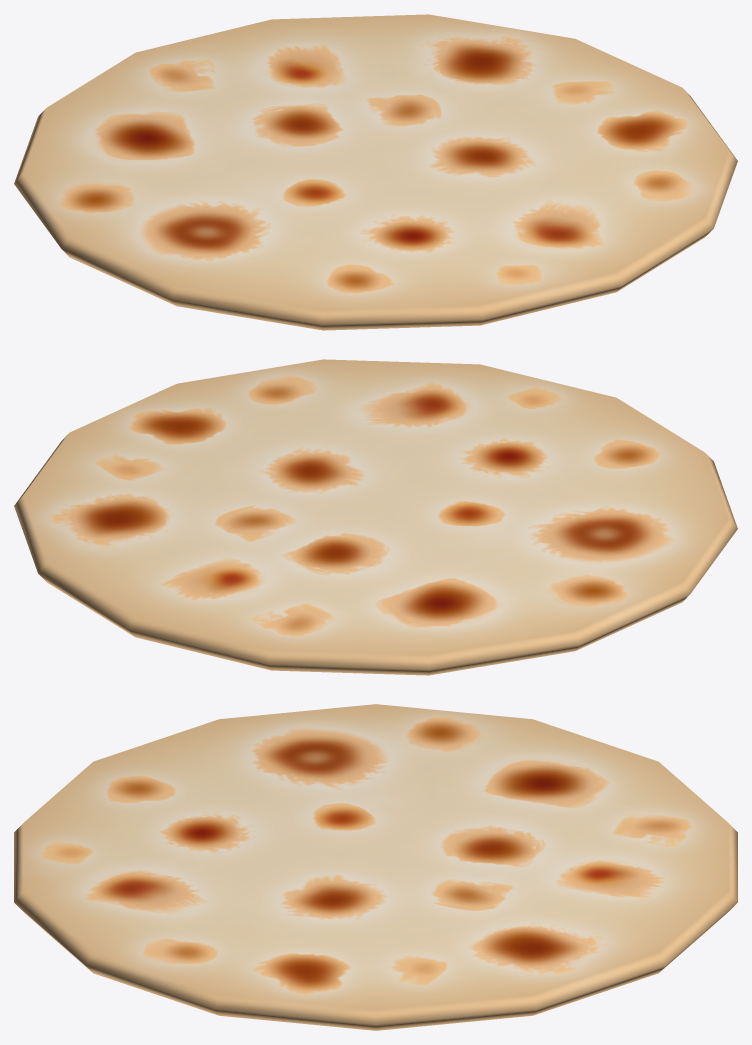
The model's file is Tortilla.fbx.
3 views of the same model, one above another, from view 1: azimuth 30°, elevation 25°; view 2: azimuth 150°, elevation 25°; view 3: azimuth 270°, elevation 25° (orthographic). The views are drawn at different scales.
Visible parts, largest first — view 1: Tortilla; view 2: Tortilla; view 3: Tortilla.
Part boxes in pixels (bbox=[...]): Tortilla: bbox=[14, 14, 737, 330]; Tortilla: bbox=[14, 359, 737, 675]; Tortilla: bbox=[14, 704, 737, 1030].
Size of the model in its own units: 66.44 by 2.08 by 64.78.
